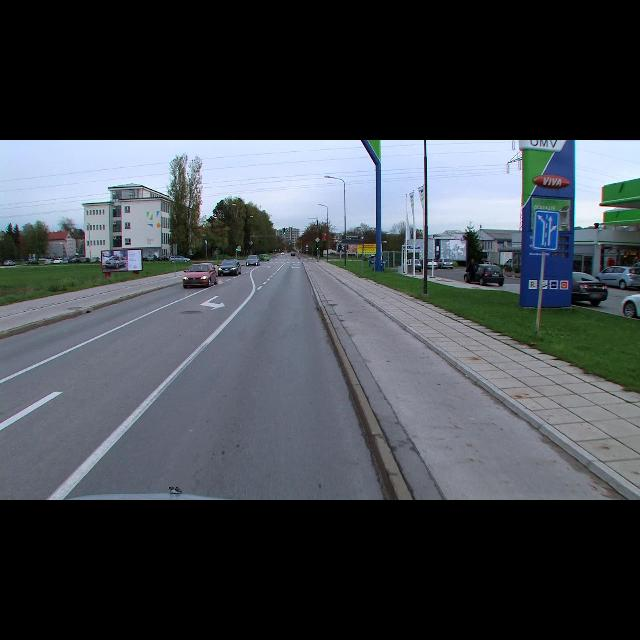Prior: (315, 236, 321, 244)
Rectangle: (532, 210, 560, 252)
